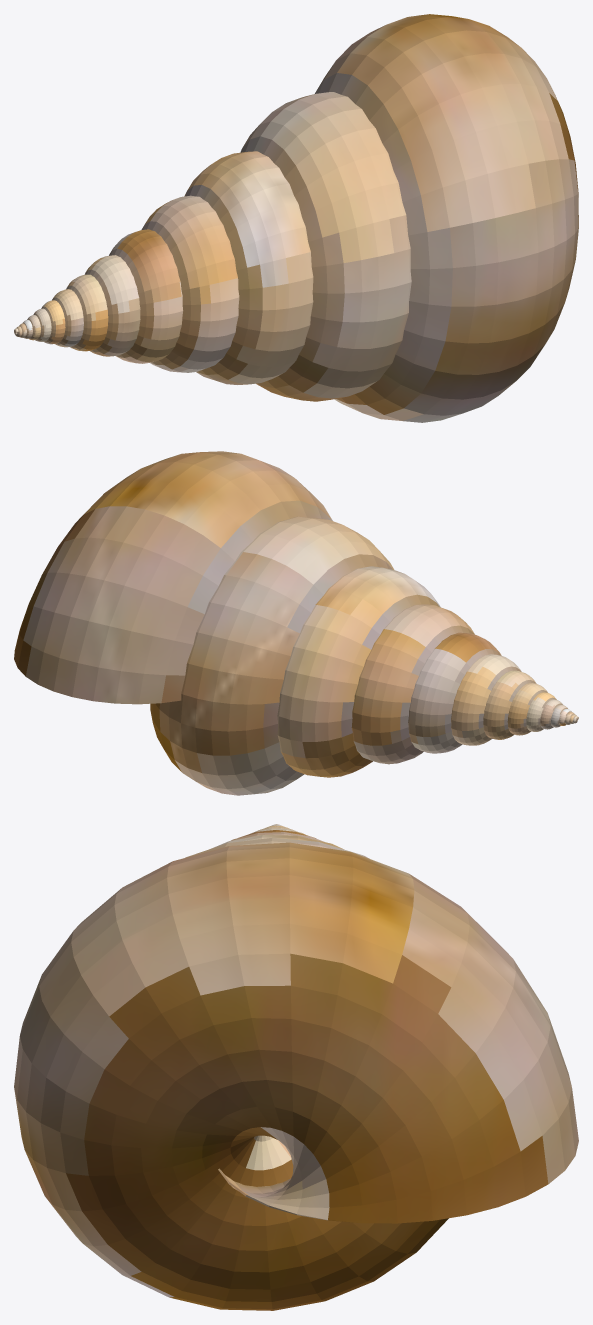
The model's file is seaShell.fbx.
3 renders of one model, top to bottom at view 1: azimuth 30°, elevation 25°; view 2: azimuth 150°, elevation 25°; view 3: azimuth 270°, elevation 25°, orthographic. The views are drawn at different scales.
Visible parts, largest first — view 1: Circle; view 2: Circle; view 3: Circle.
Part boxes in pixels (x1,y1,x2,y2): Circle: [14, 14, 578, 422]; Circle: [14, 451, 578, 795]; Circle: [14, 824, 578, 1310].
Size of the model in its own units: 492 by 286 by 307.
1 material, 1 textured.
